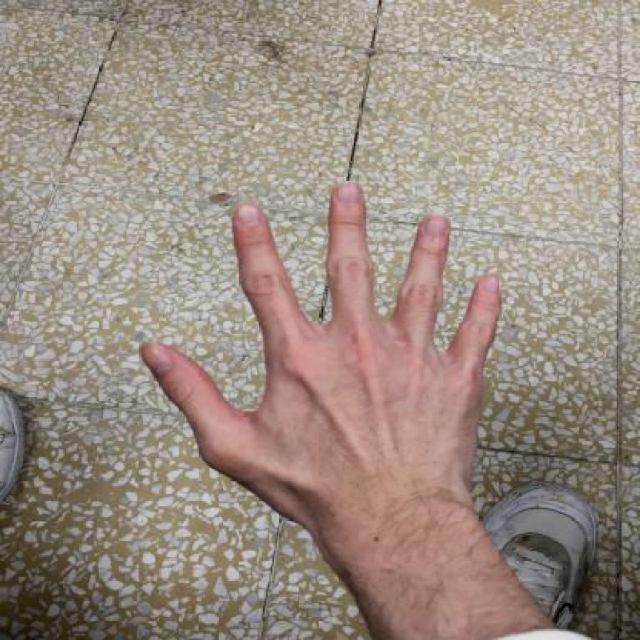no_glove: (128, 170, 542, 538)
